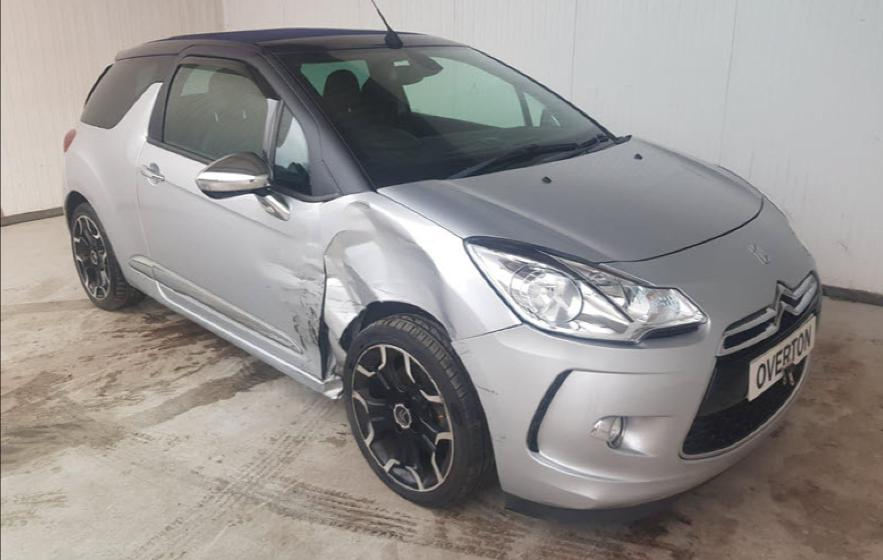Broken part: (315, 192, 532, 398)
Dent: (323, 199, 458, 341), (323, 253, 381, 326), (265, 248, 326, 317), (323, 378, 342, 401), (329, 329, 340, 346), (336, 361, 344, 376)
Paint chip: (323, 230, 346, 256), (352, 200, 372, 209), (295, 274, 315, 282), (300, 298, 303, 307)
Scratch: (292, 313, 307, 351), (132, 260, 167, 273), (473, 383, 499, 397), (307, 320, 319, 348), (371, 287, 399, 298), (300, 355, 313, 368), (309, 307, 319, 323), (495, 434, 507, 443), (459, 349, 471, 356), (281, 289, 308, 291), (265, 285, 271, 289)
